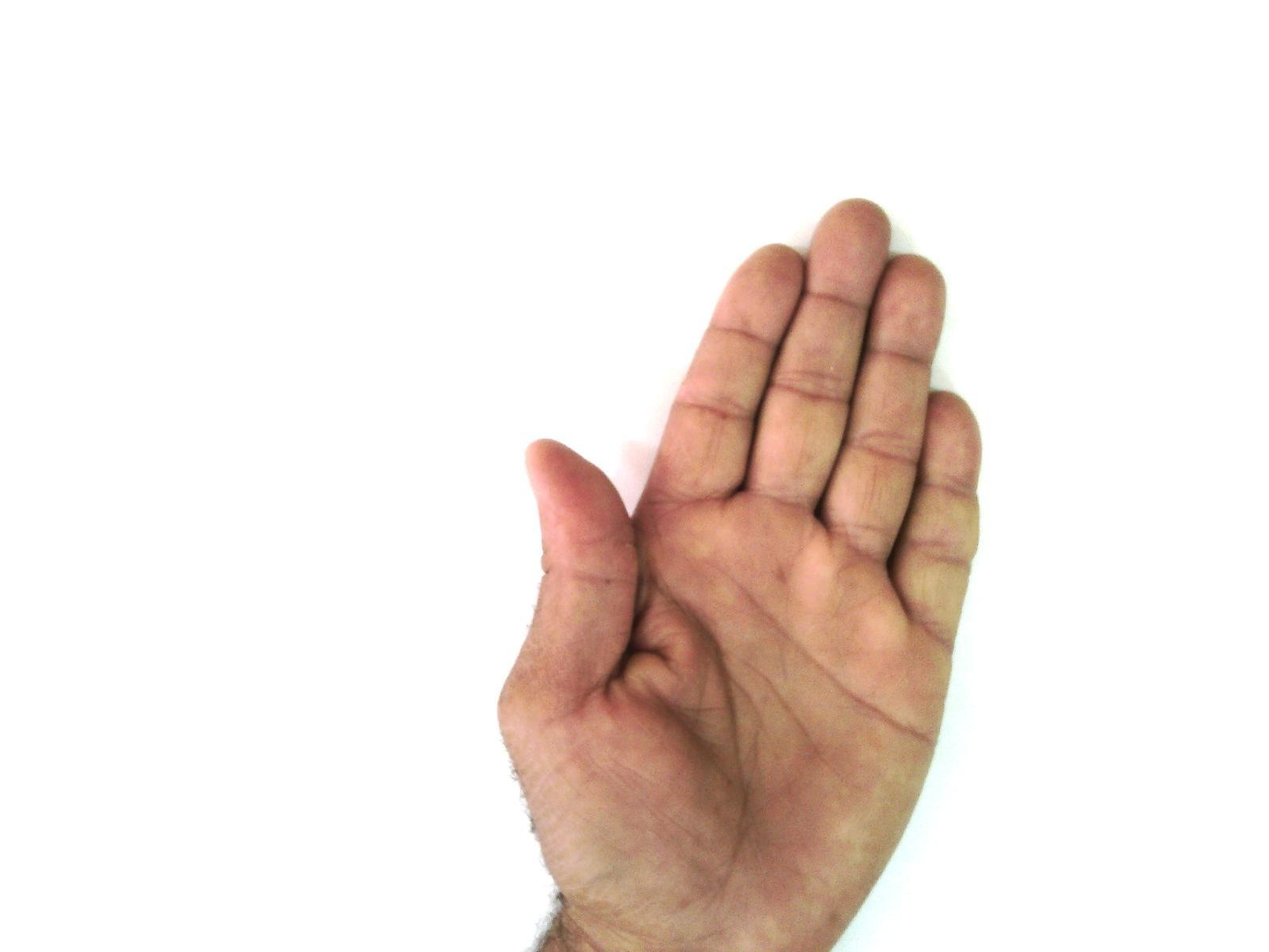open_palm: (495, 198, 986, 951)
